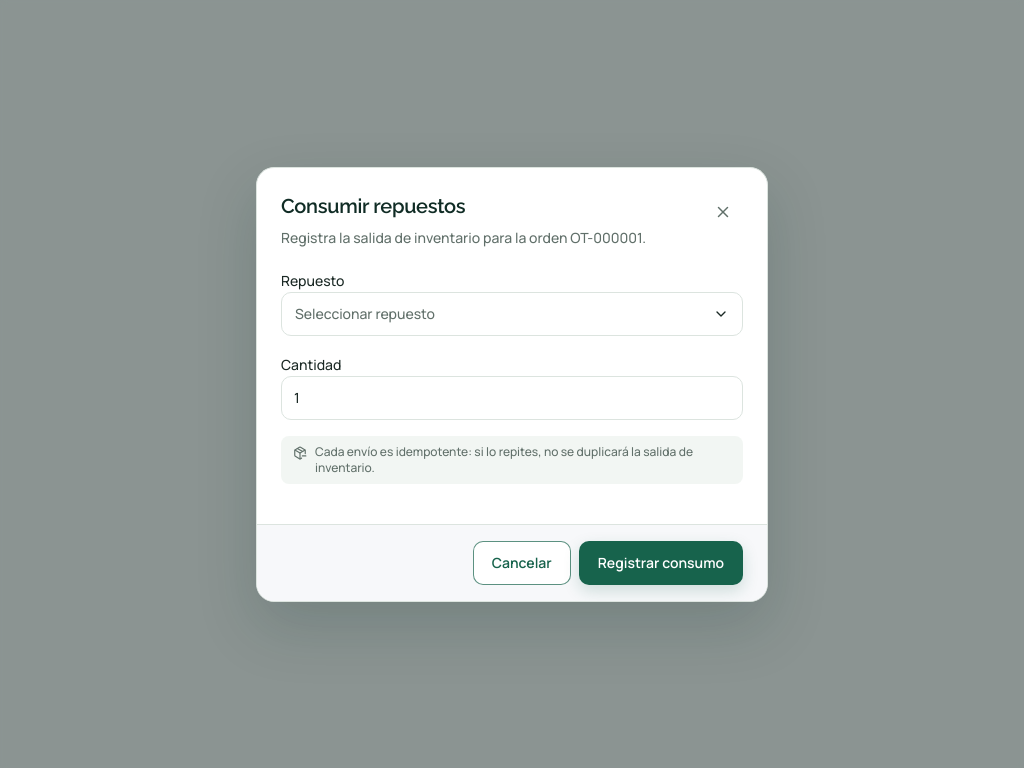
Scenario: Modal de consumo de repuestos (QA-06) › explica que solo aparecen productos del presupuesto aprobado pendientes
Click the button with aria-label "Repuesto a consumir" at (365, 313), box [281, 292, 743, 336]
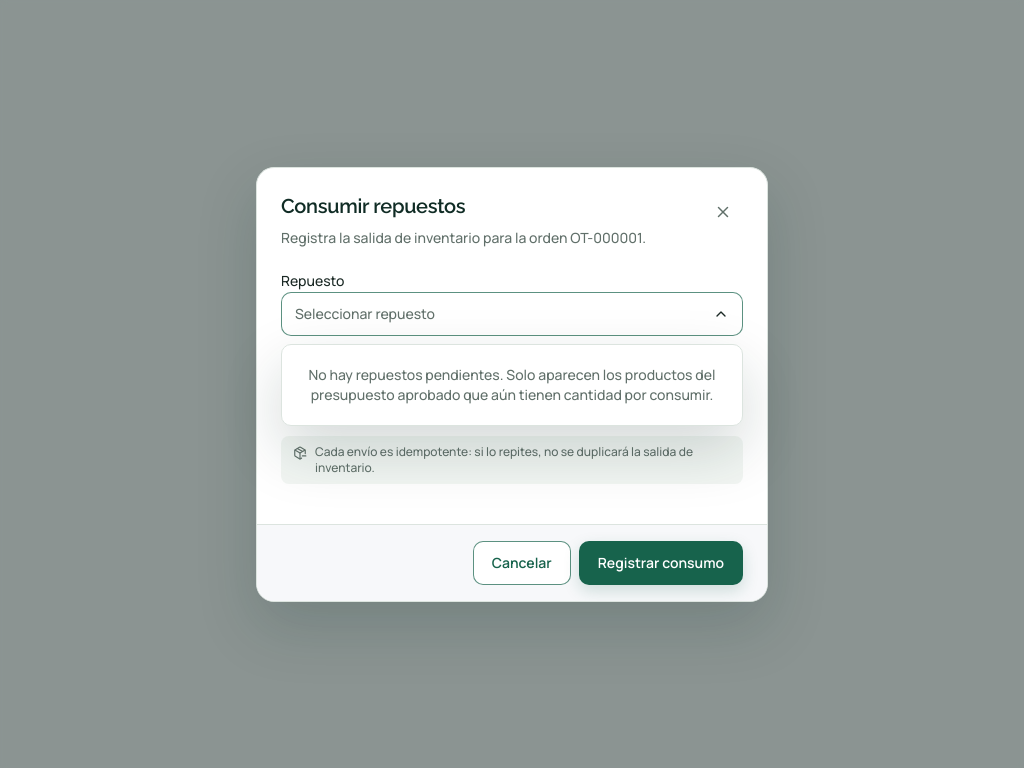
Now the list item "No hay repuestos pendientes. Solo aparecen los productos del presupuesto aprobado que aún tienen cantidad por consumir." is shown, box [308, 364, 716, 404]
